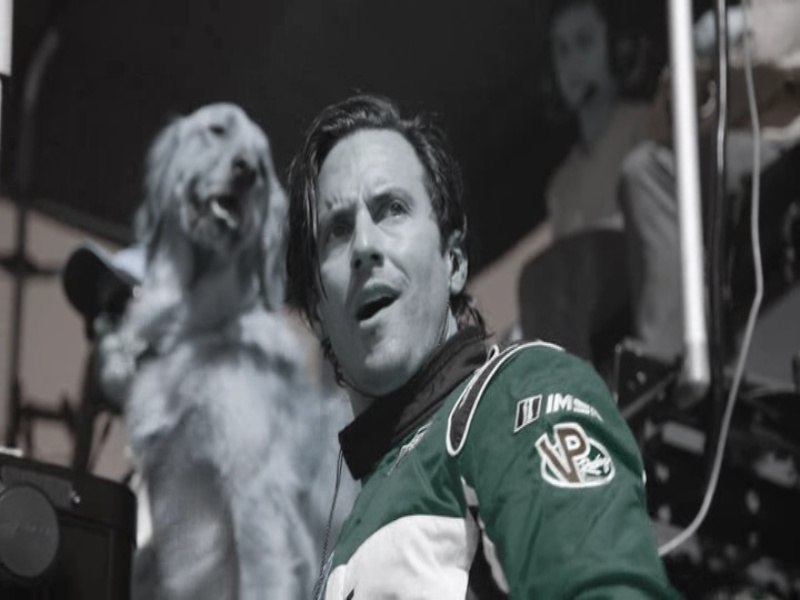TsisyArotava: (288, 116, 473, 392)
